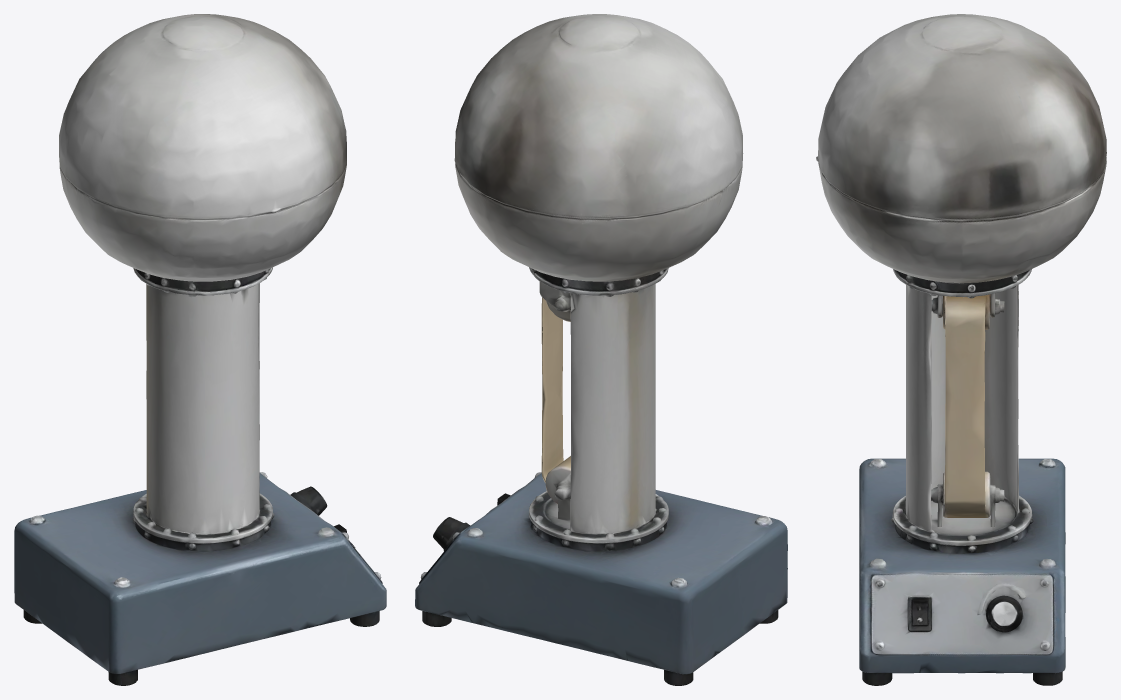
File: van-de-graaff.glb
3 views of the same model, side by side, from view 1: azimuth 30°, elevation 25°; view 2: azimuth 150°, elevation 25°; view 3: azimuth 270°, elevation 25° (orthographic).
Parts seen in each view (by area): view 1: van-de-graaff; view 2: van-de-graaff; view 3: van-de-graaff.
Part boxes in pixels (x1=…): van-de-graaff: x1=14, y1=14, x2=386, y2=685; van-de-graaff: x1=415, y1=14, x2=787, y2=685; van-de-graaff: x1=816, y1=14, x2=1106, y2=685.
Bounding box in the file's own units: 0.2994 × 0.6 × 0.2657.
Materials: 1 (1 with a texture image).
